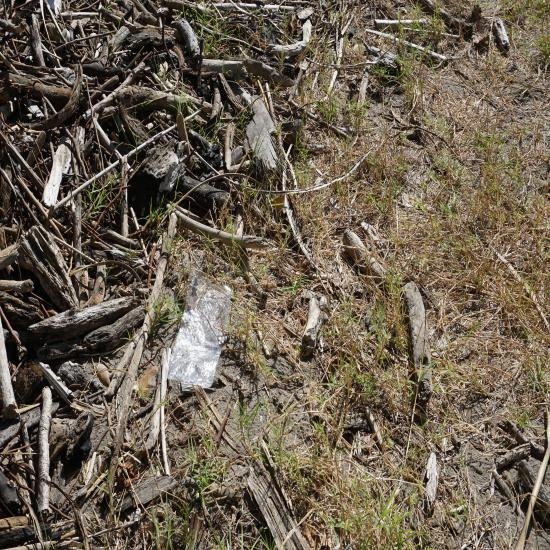Plastic film: (167, 269, 233, 387)
